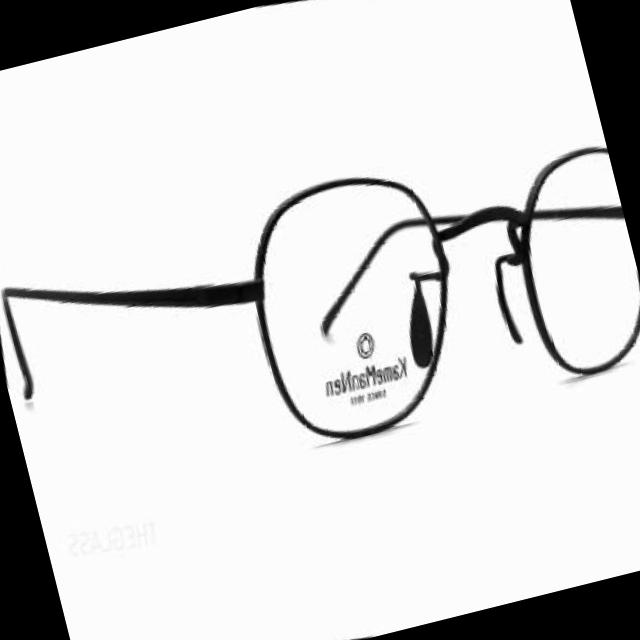glasses: (0, 76, 640, 547)
